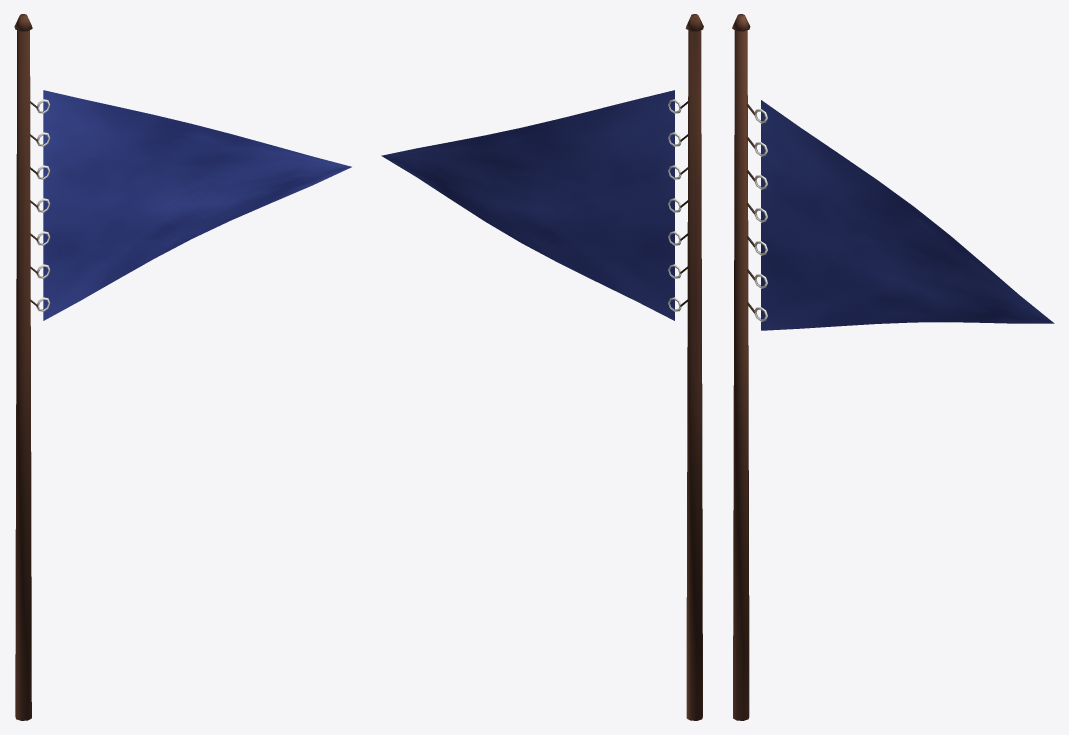
File: mm6_deco_flag1.glb
3 renders of one model, left to right at view 1: azimuth 30°, elevation 25°; view 2: azimuth 150°, elevation 25°; view 3: azimuth 330°, elevation 25°, orthographic.
Parts seen in each view (by area): view 1: Flag1; view 2: Flag1; view 3: Flag1.
Part boxes in pixels (x1,y1,x2,y2): Flag1: (14,14,351,720); Flag1: (381,14,703,720); Flag1: (732,14,1054,720).
Size of the model in its own units: 2 by 4.07 by 0.13.
Materials: 4 (4 with a texture image).
